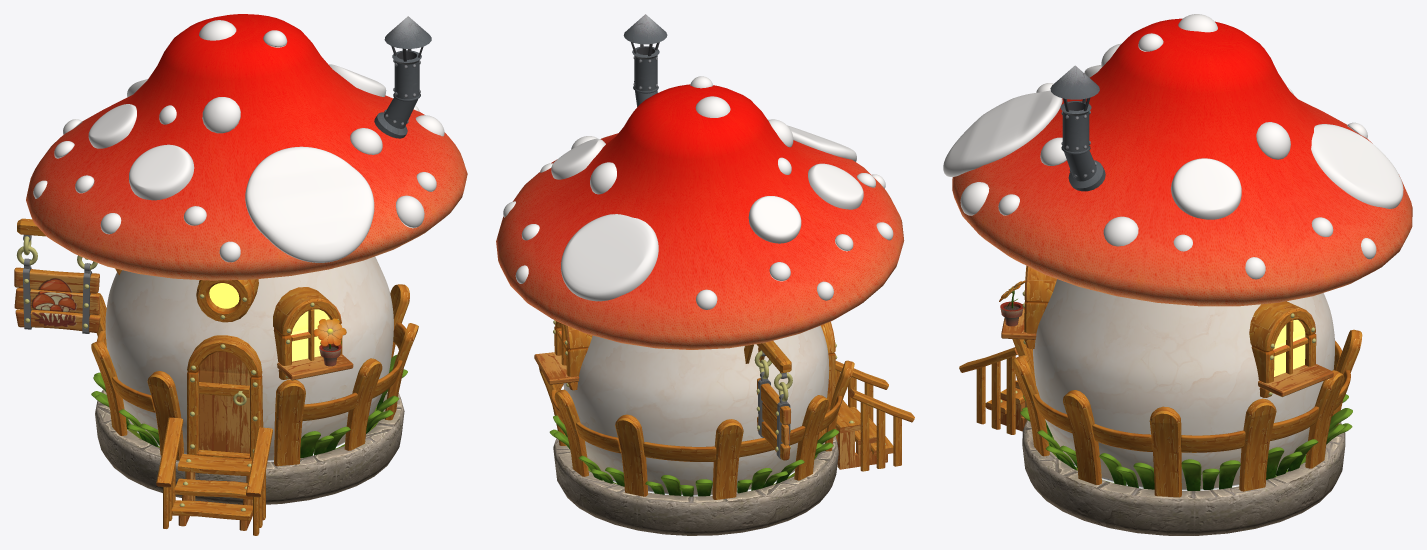
File: mushroomHouse.glb
3 renders of one model, left to right at view 1: azimuth 30°, elevation 25°; view 2: azimuth 150°, elevation 25°; view 3: azimuth 270°, elevation 25°, orthographic. The views are drawn at different scales.
Visible parts, largest first — view 1: pCylinder22_white_spots_0; view 2: pCylinder22_white_spots_0; view 3: pCylinder22_white_spots_0.
Boxes of the visible parts, <box> form: pCylinder22_white_spots_0: <box>14,14,467,535</box>; pCylinder22_white_spots_0: <box>496,14,914,535</box>; pCylinder22_white_spots_0: <box>943,14,1412,535</box>.
Bounding box in the file's own units: 5.06 × 5.56 × 5.14.
Materials: 16 (9 with a texture image).
